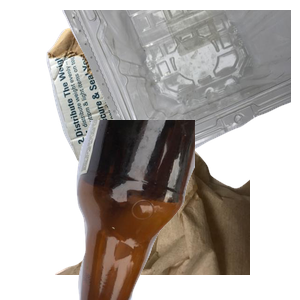cardboard: (44, 26, 209, 186)
glass: (60, 120, 300, 300)
plastic: (60, 10, 300, 162)
trash: (52, 120, 292, 300)
